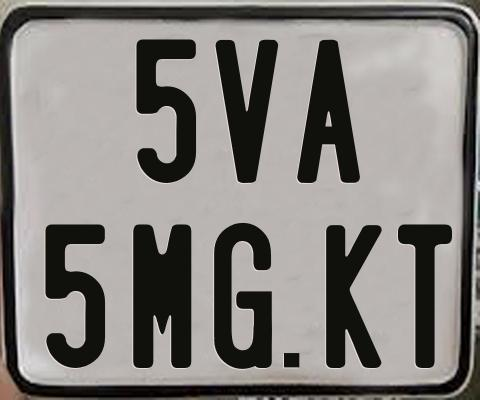5: (136, 39, 196, 188), (43, 221, 103, 367)
A: (294, 40, 361, 185)
G: (213, 221, 274, 369)
K: (326, 225, 382, 368)
M: (131, 222, 191, 369)
T: (396, 223, 456, 369)
V: (213, 40, 279, 186)
